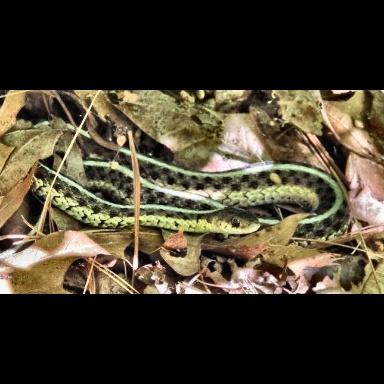snake: (0, 91, 384, 294)
